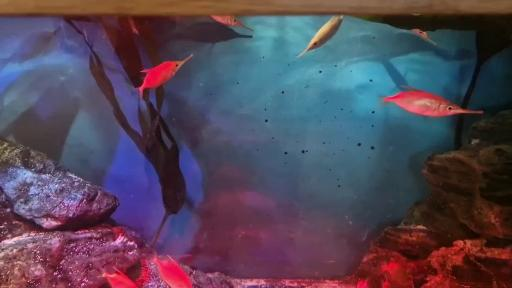Fish: (381, 86, 483, 117), (137, 54, 193, 99), (297, 15, 343, 58), (152, 255, 193, 287), (100, 268, 137, 287), (382, 262, 410, 287), (210, 16, 253, 31), (411, 29, 436, 45), (128, 18, 139, 35), (356, 280, 368, 287)
